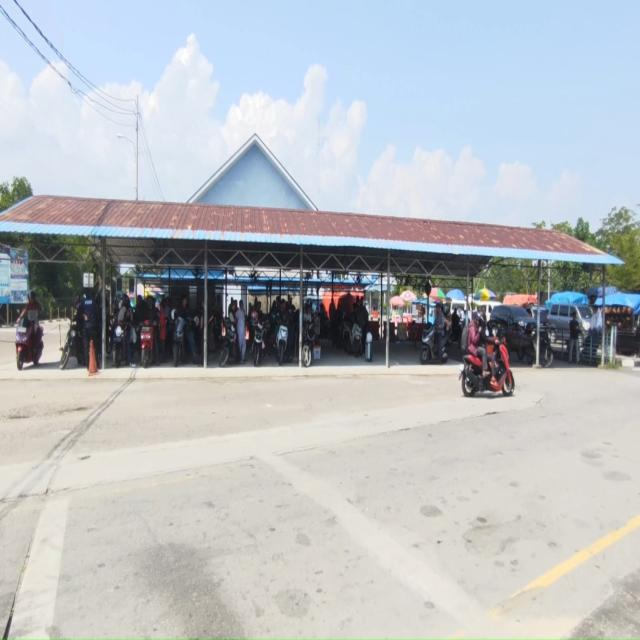Golongan II: (459, 341, 515, 397), (60, 310, 86, 370), (172, 310, 199, 367), (15, 318, 44, 370), (518, 327, 554, 368), (420, 322, 448, 364), (171, 310, 187, 367), (219, 318, 237, 367), (139, 320, 156, 368), (251, 319, 268, 366), (302, 319, 316, 367), (112, 321, 126, 368), (276, 323, 290, 365), (338, 316, 352, 352), (349, 322, 363, 357)
